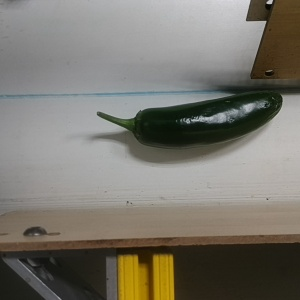Cut Point: (126, 105, 154, 147)
